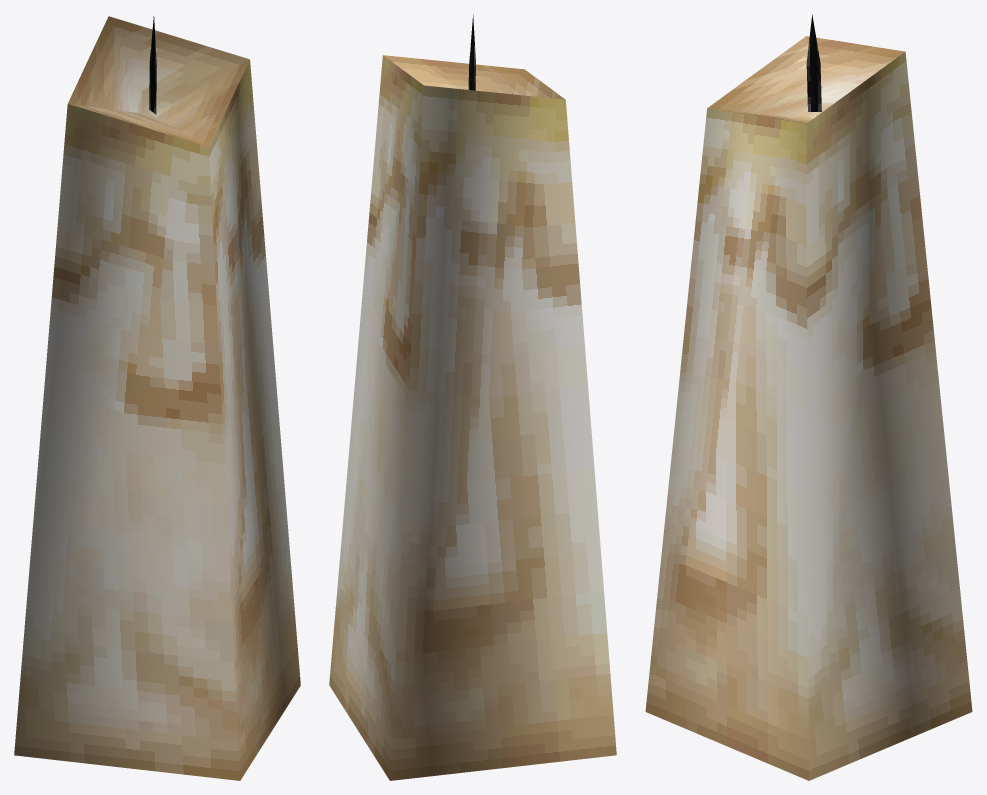
File: candleoff01.obj
3 renders of one model, left to right at view 1: azimuth 30°, elevation 25°; view 2: azimuth 150°, elevation 25°; view 3: azimuth 270°, elevation 25°, orthographic.
Visible parts, largest first — view 1: CANDLEOFF010, CANDLEOFF011; view 2: CANDLEOFF010; view 3: CANDLEOFF010, CANDLEOFF011.
Part boxes in pixels (x1,y1,x2,y2): CANDLEOFF010: (14, 16, 300, 780); CANDLEOFF011: (149, 16, 156, 114); CANDLEOFF010: (329, 55, 616, 780); CANDLEOFF010: (645, 36, 972, 780); CANDLEOFF011: (806, 15, 821, 111).
Size of the model in its own units: 0.2399 by 0.5641 by 0.2399.
Materials: 2 (2 with a texture image).
